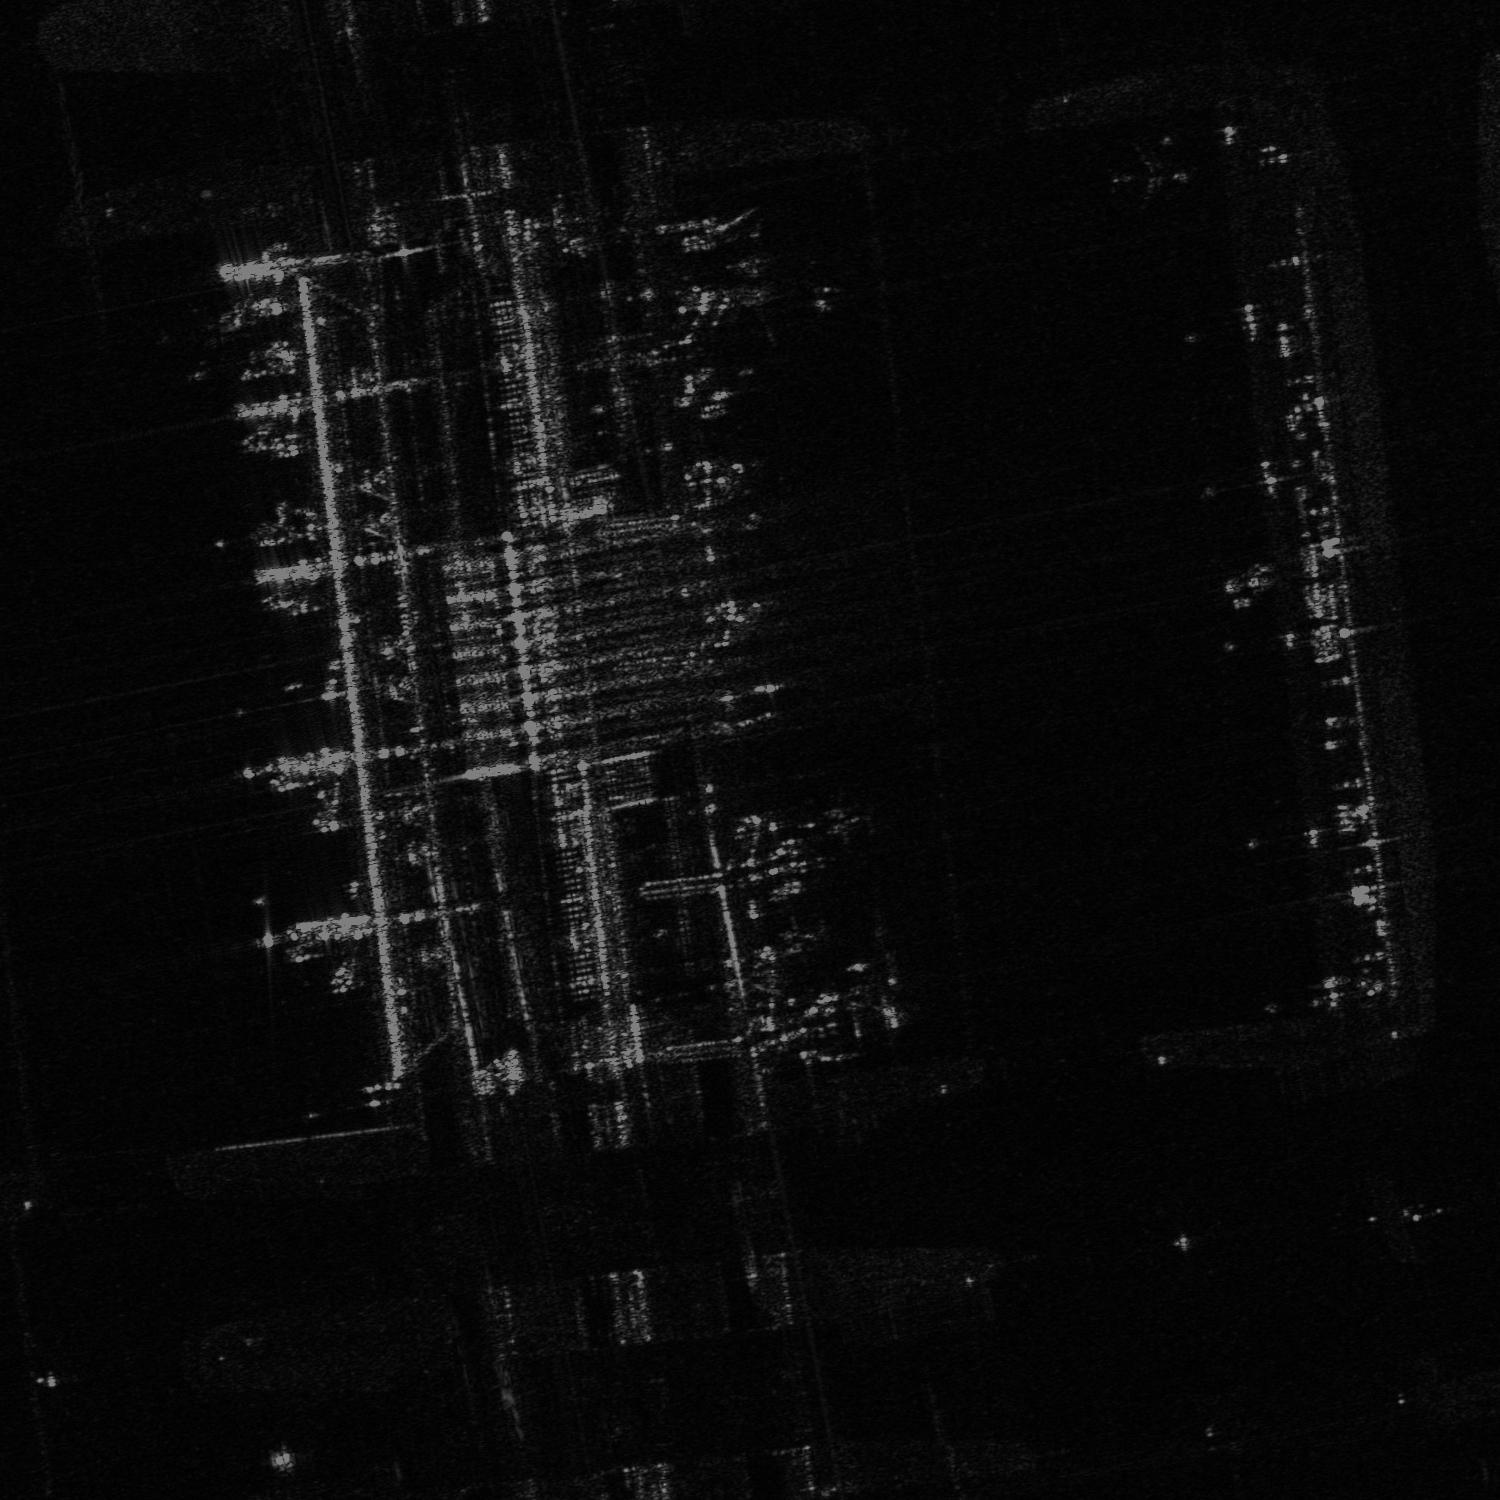Boeing737: (1102, 141, 1196, 218), (843, 977, 909, 1037)
